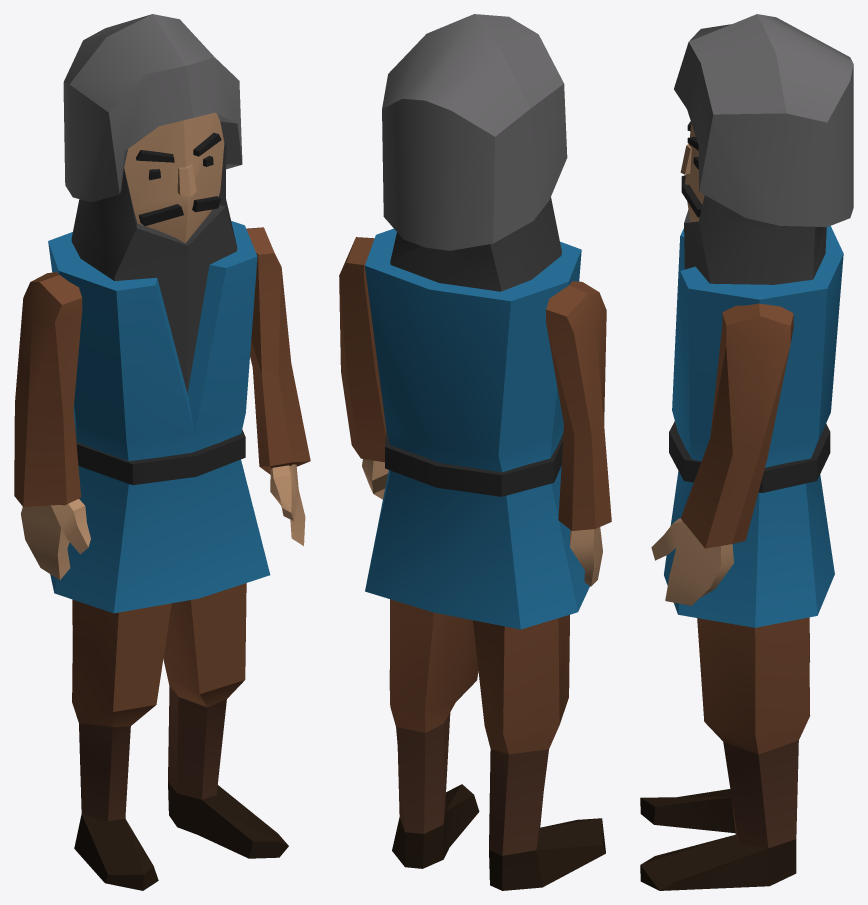
File: Archer_2.fbx
The picture shows the model from 3 angles, left to right: view 1: azimuth 30°, elevation 25°; view 2: azimuth 150°, elevation 25°; view 3: azimuth 270°, elevation 25°; orthographic projection. The views are drawn at different scales.
Visible parts, largest first — view 1: Archer_2; view 2: Archer_2; view 3: Archer_2.
Boxes of the visible parts, x1=… form: Archer_2: x1=14, y1=14, x2=310, y2=890; Archer_2: x1=339, y1=14, x2=611, y2=890; Archer_2: x1=640, y1=14, x2=853, y2=890.
Bounding box in the file's own units: 39.71 × 118 × 27.31.
